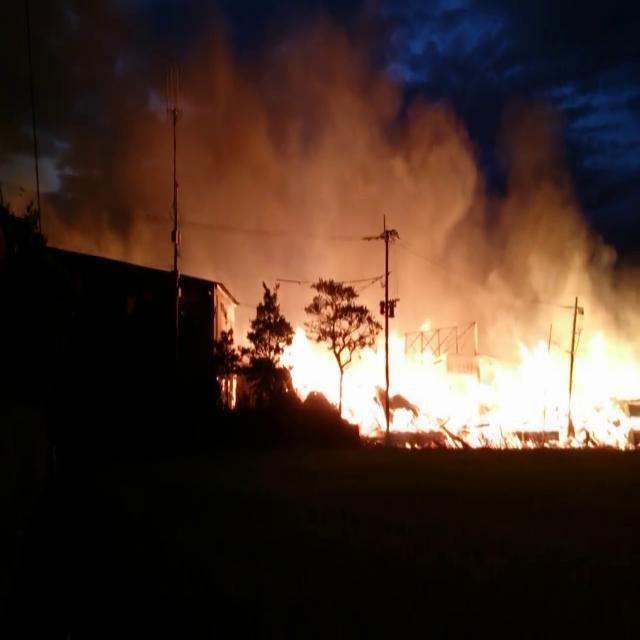Fire: (270, 301, 638, 447), (220, 376, 238, 410)
